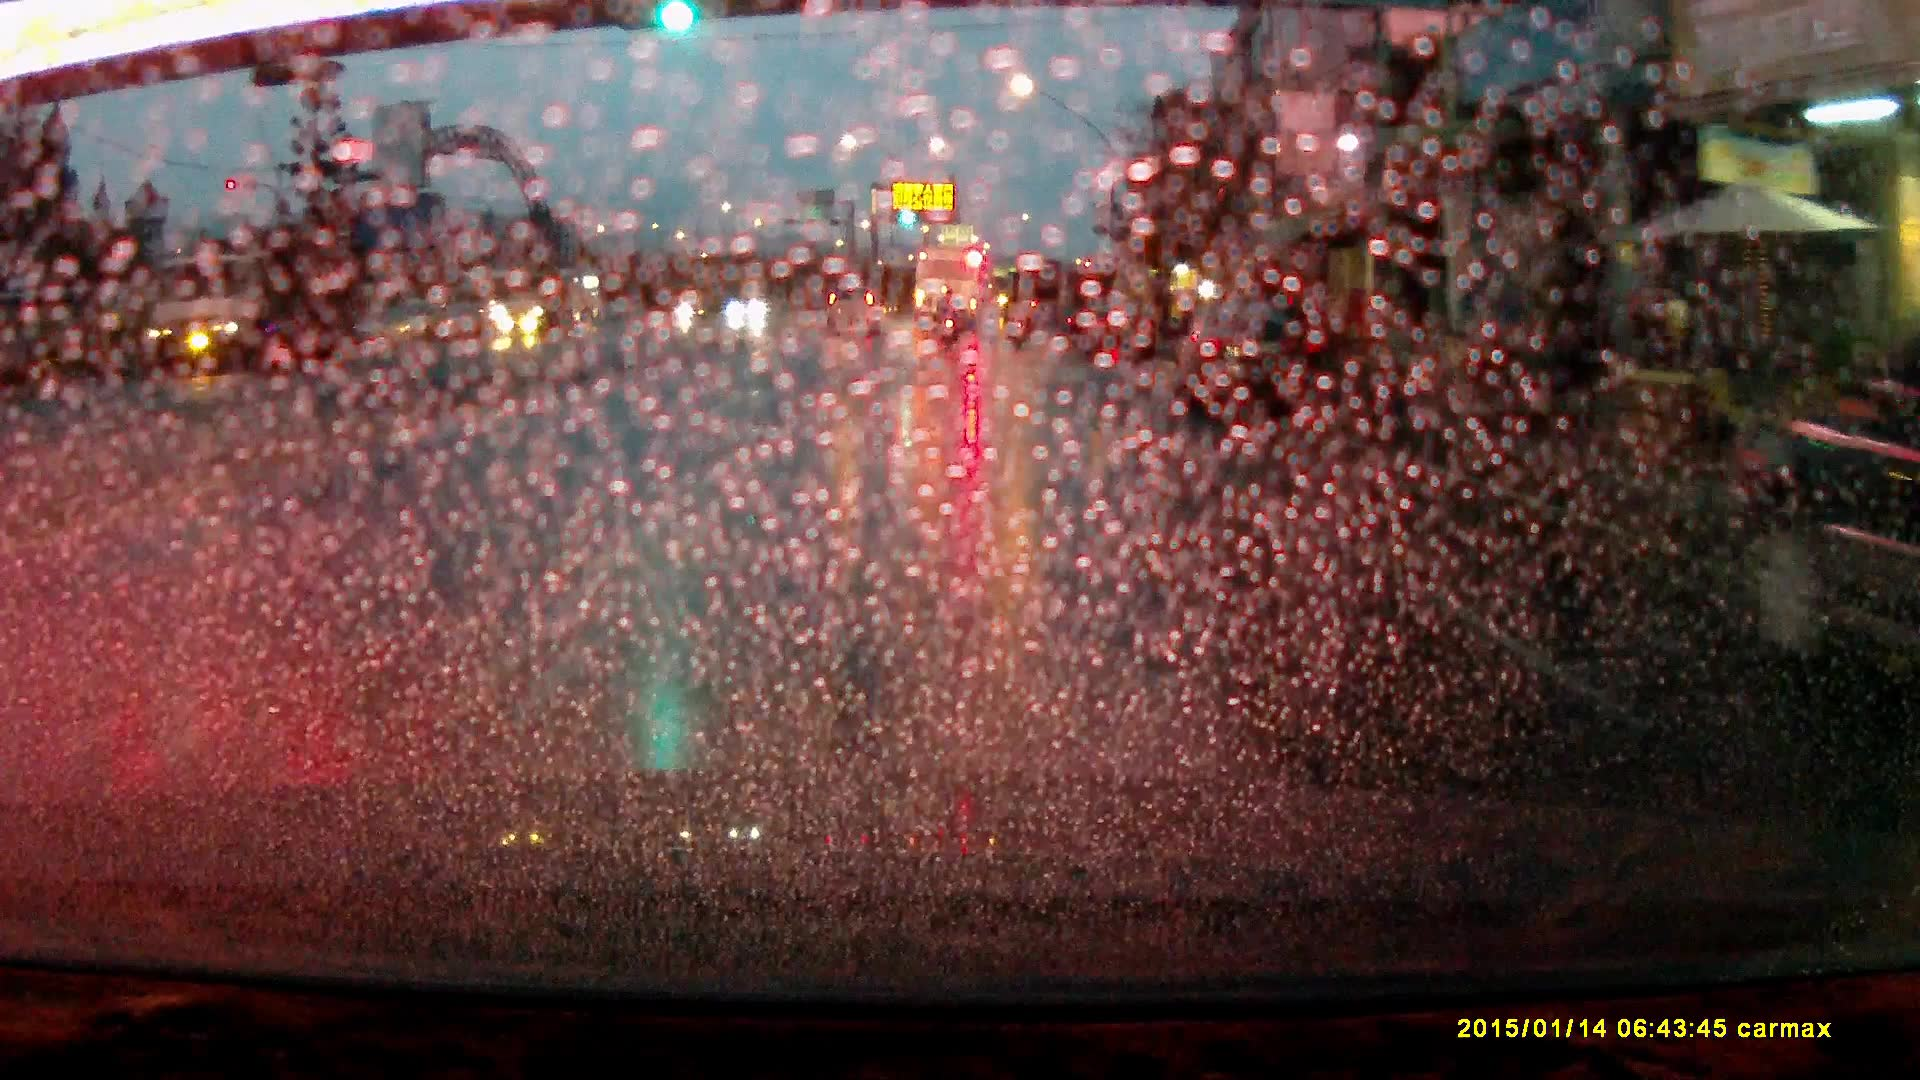rider: (939, 287, 966, 348)
vehicle: (1757, 374, 1920, 687), (141, 251, 346, 377), (1171, 310, 1331, 410), (494, 263, 590, 338), (913, 248, 982, 330), (1080, 301, 1155, 357), (827, 286, 885, 334), (727, 293, 772, 321)
